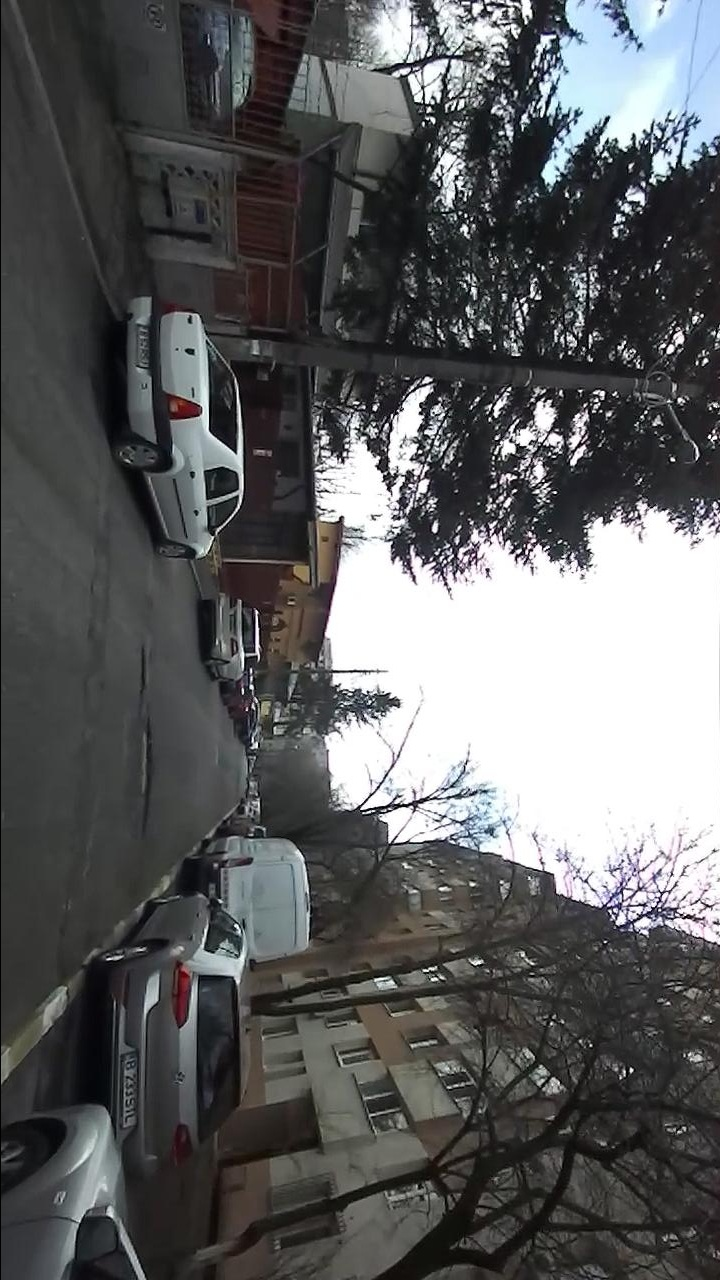pothole: (134, 716, 157, 840), (135, 643, 148, 700)
